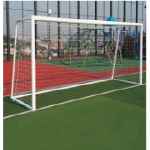goals: (10, 14, 144, 110)
